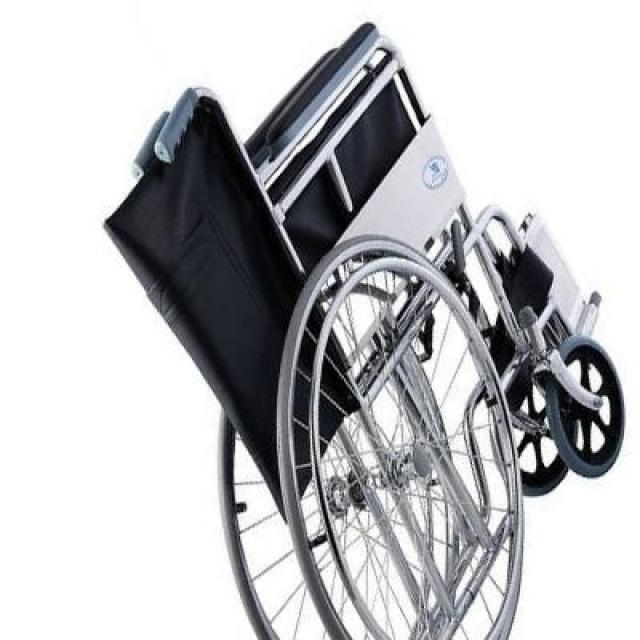wheelchair: (101, 12, 638, 640)
